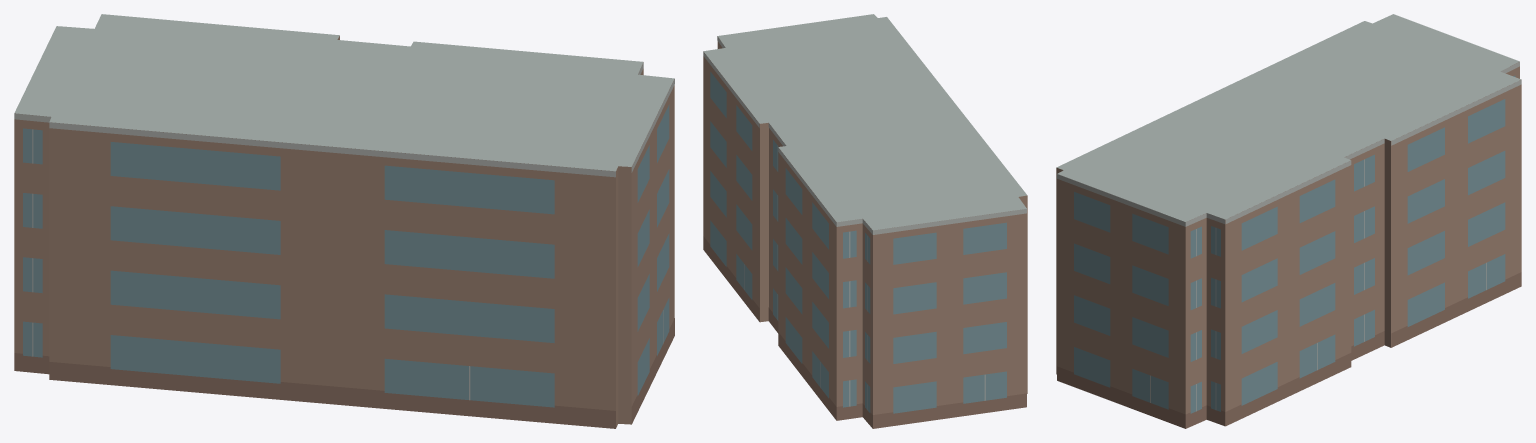
File: survey-upis-32539223.glb
3 renders of one model, left to right at view 1: azimuth 30°, elevation 25°; view 2: azimuth 150°, elevation 25°; view 3: azimuth 270°, elevation 25°, orthographic. The views are drawn at different scales.
Parts seen in each view (by area): view 1: survey-upis-32539223.tmp; view 2: survey-upis-32539223.tmp; view 3: survey-upis-32539223.tmp.
Part boxes in pixels (box(x1,y1,x2,y2)): survey-upis-32539223.tmp: box(14, 14, 674, 428); survey-upis-32539223.tmp: box(703, 14, 1027, 428); survey-upis-32539223.tmp: box(1056, 14, 1521, 428).
Size of the model in its own units: 22.67 by 10.5 by 21.42.
